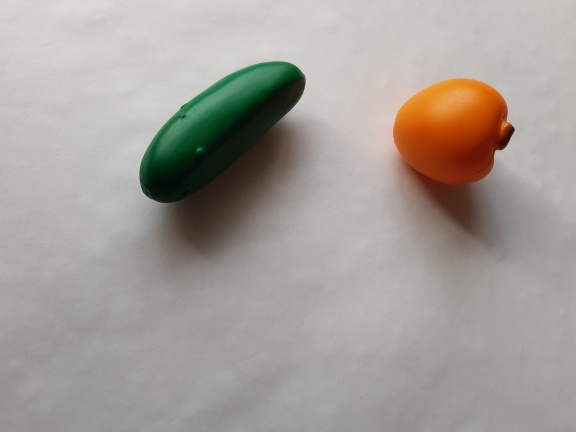apricot: (388, 69, 525, 194)
cucumber: (131, 55, 319, 216)
